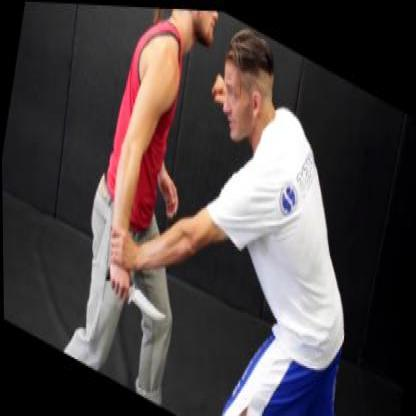knife: (97, 252, 171, 329)
